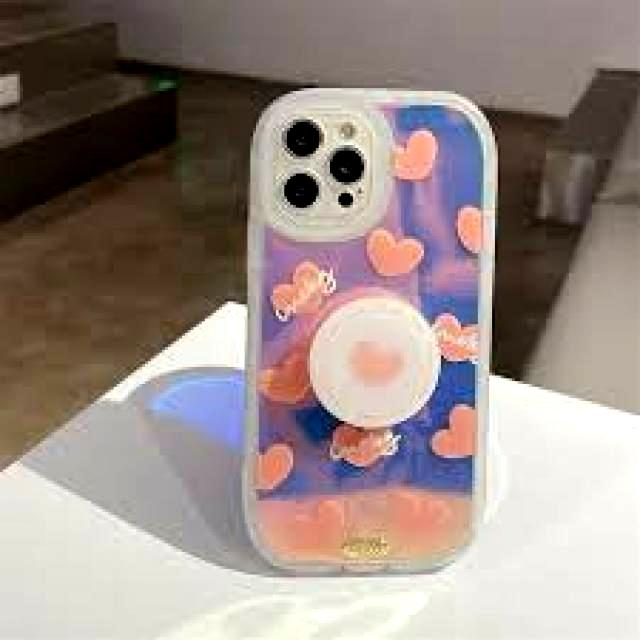lens_back: (274, 165, 326, 218), (330, 137, 376, 187), (279, 116, 325, 161)
phone: (243, 86, 490, 577)
